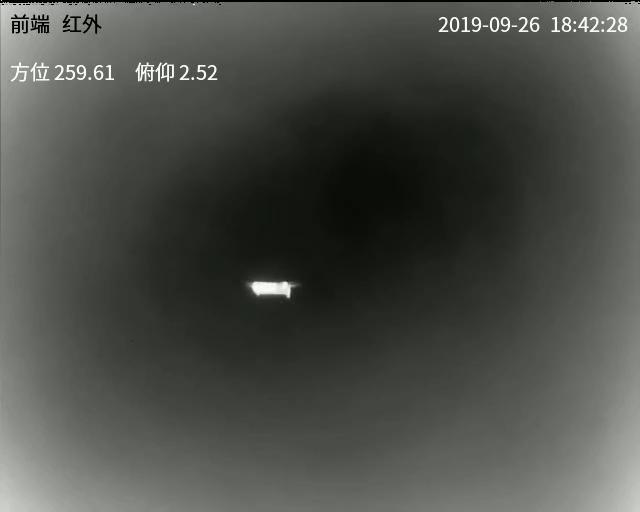uav: (241, 274, 300, 303)
